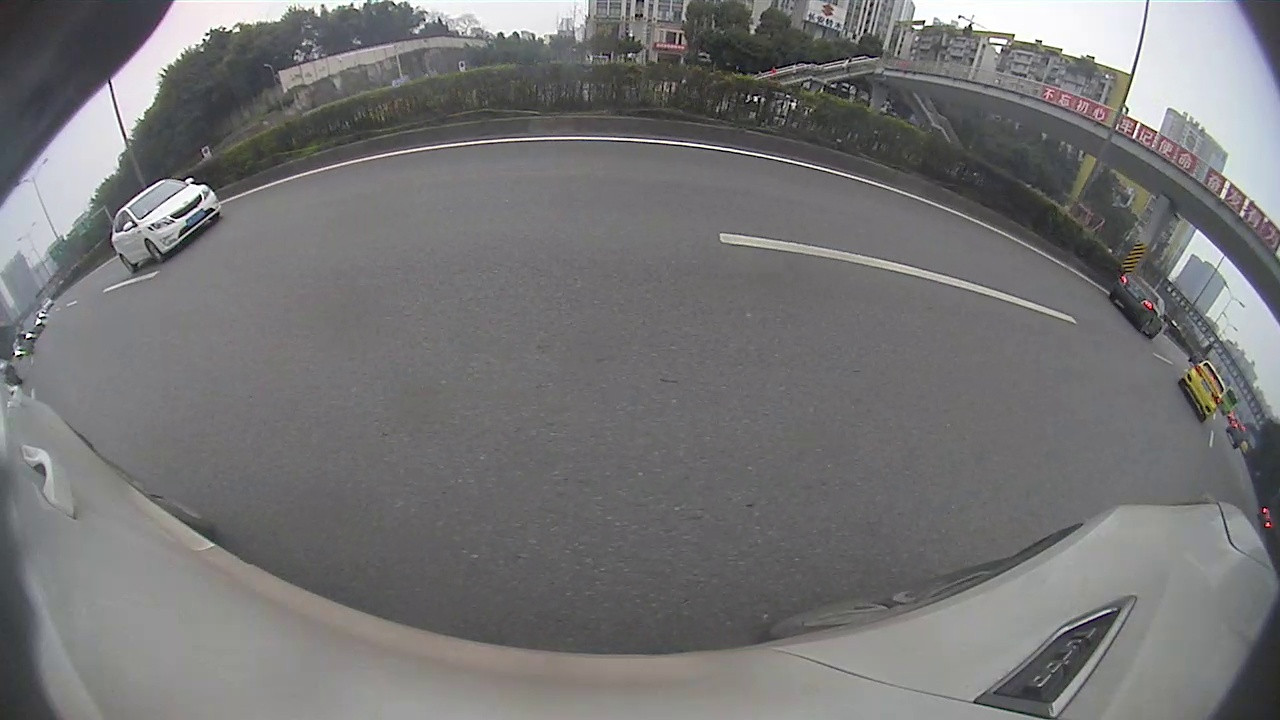car: (110, 177, 223, 274), (1107, 268, 1166, 341), (1178, 358, 1230, 423)
front: (146, 241, 166, 266)
rear: (119, 255, 139, 275)
